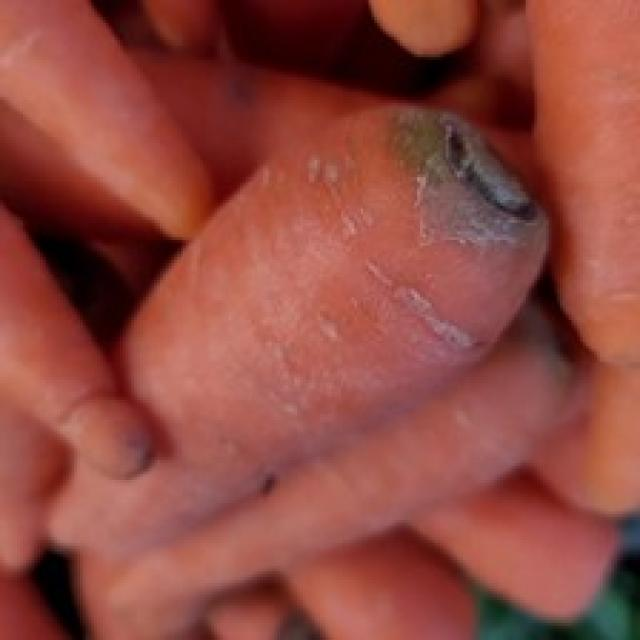Fresh_Carrot: (60, 97, 519, 566)
